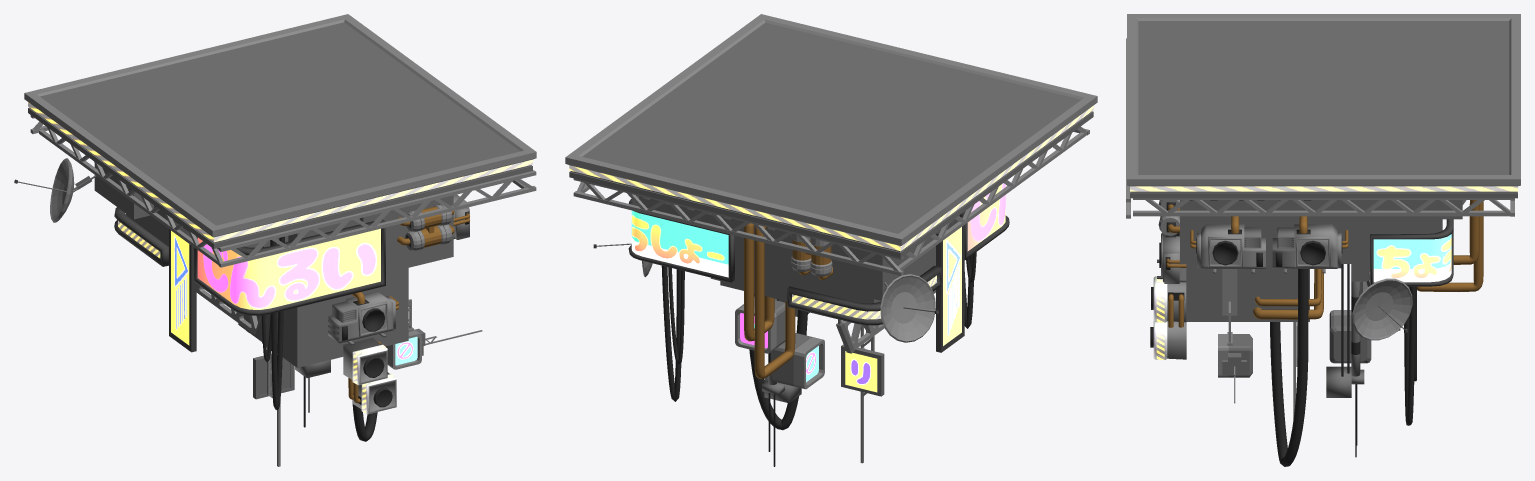
The model's file is platform_4x4.glb.
3 views of the same model, side by side, from view 1: azimuth 30°, elevation 25°; view 2: azimuth 150°, elevation 25°; view 3: azimuth 270°, elevation 25° (orthographic). The views are drawn at different scales.
Visible parts, largest first — view 1: Platform_4x4; view 2: Platform_4x4; view 3: Platform_4x4.
Boxes of the visible parts, left/top/right/bottom form: Platform_4x4: left=14, top=14, right=536, bottom=466; Platform_4x4: left=565, top=14, right=1097, bottom=466; Platform_4x4: left=1126, top=14, right=1520, bottom=466.
Bounding box in the file's own units: 4.47 × 3.76 × 3.9.
Materials: 2 (1 with a texture image).
